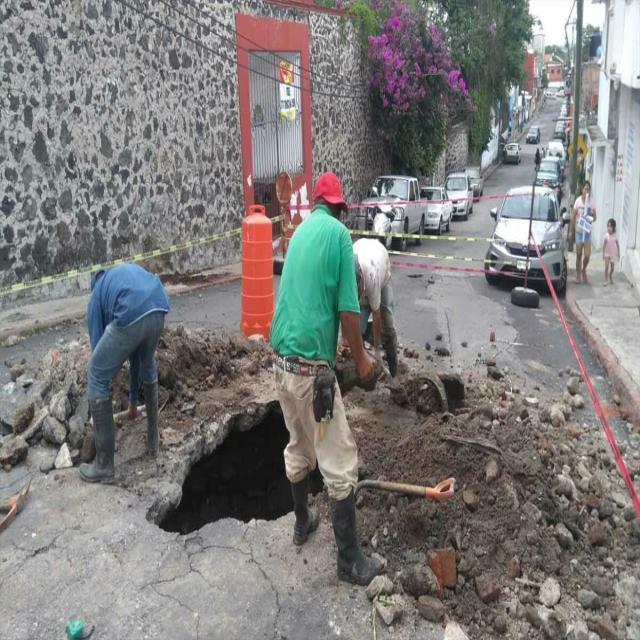Pothole: (150, 364, 366, 621)
